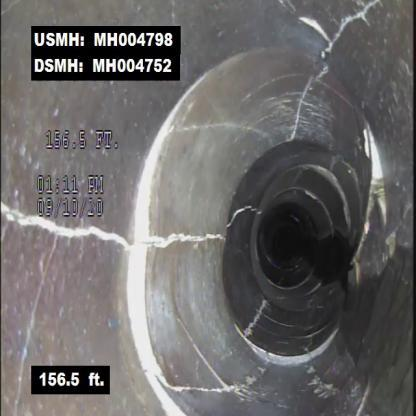buckling: (210, 121, 381, 383)
crack: (292, 0, 390, 57), (3, 216, 121, 252)
hole: (121, 114, 202, 414), (356, 101, 402, 233)
